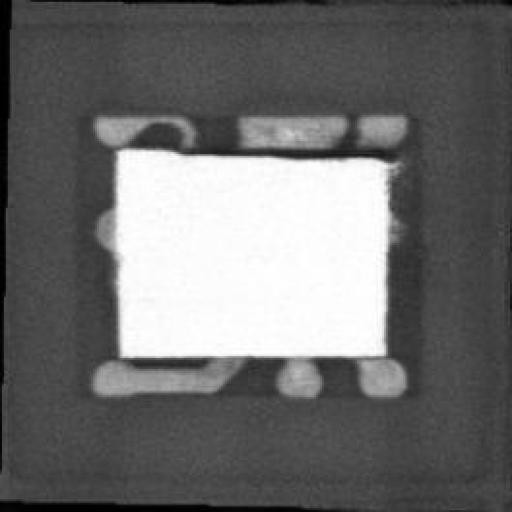DIE_BROKEN: (172, 139, 394, 163)
